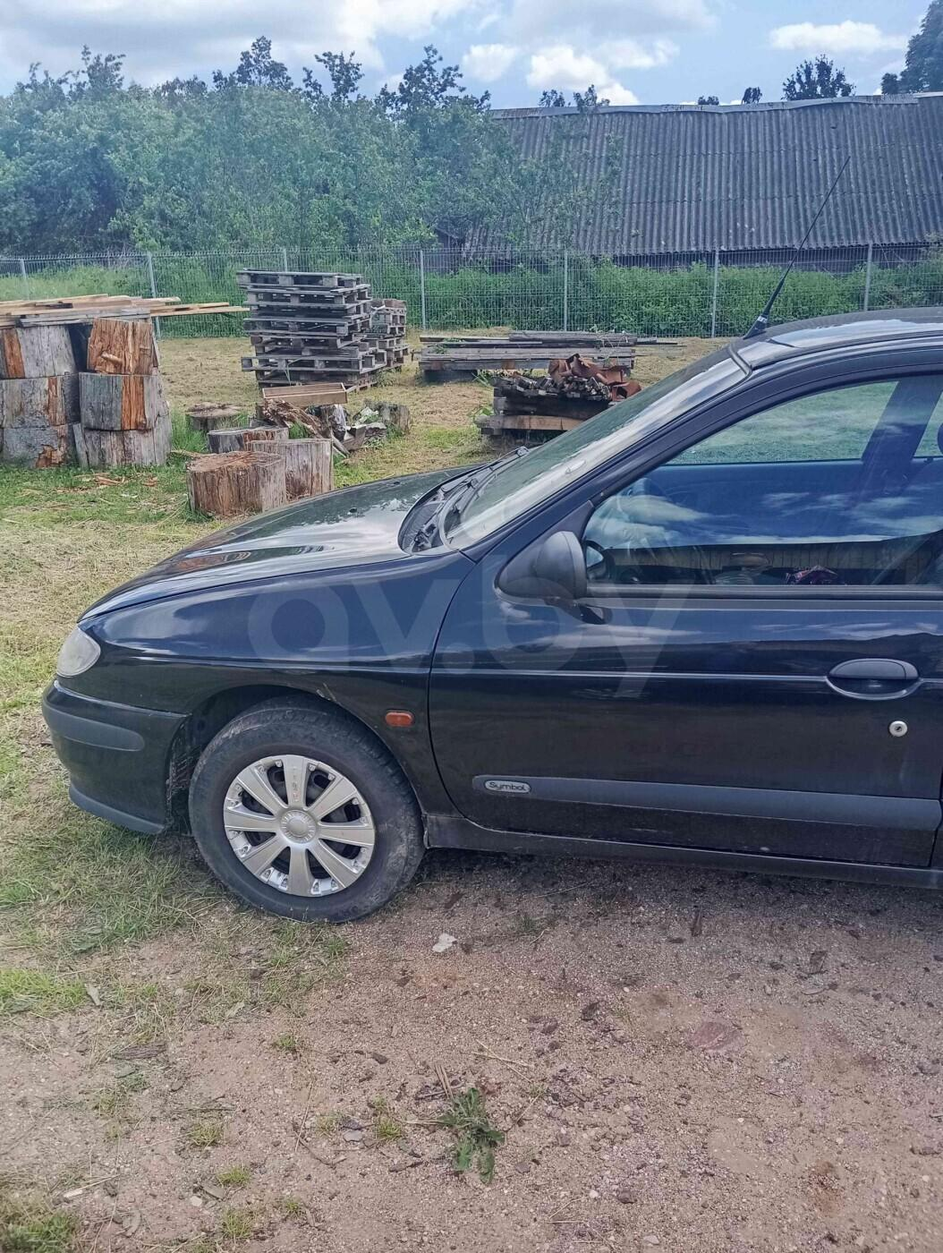Megane_1995-1999: (38, 315, 943, 954)
